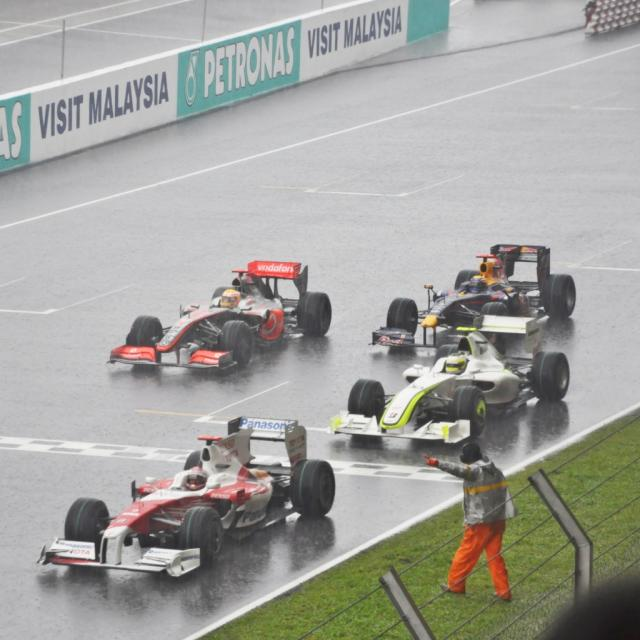Person: (424, 442, 518, 600), (182, 468, 207, 492)
